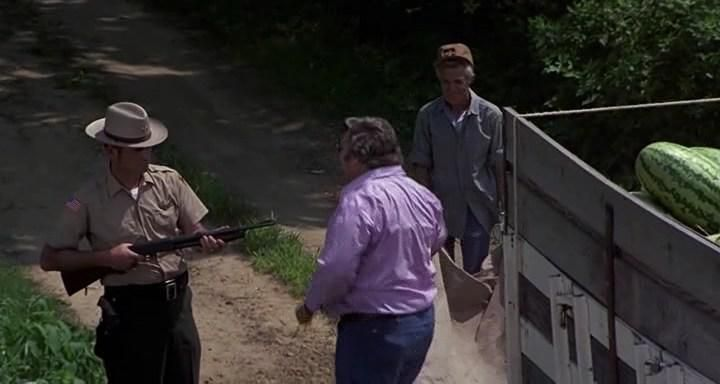gun: (52, 210, 283, 287)
